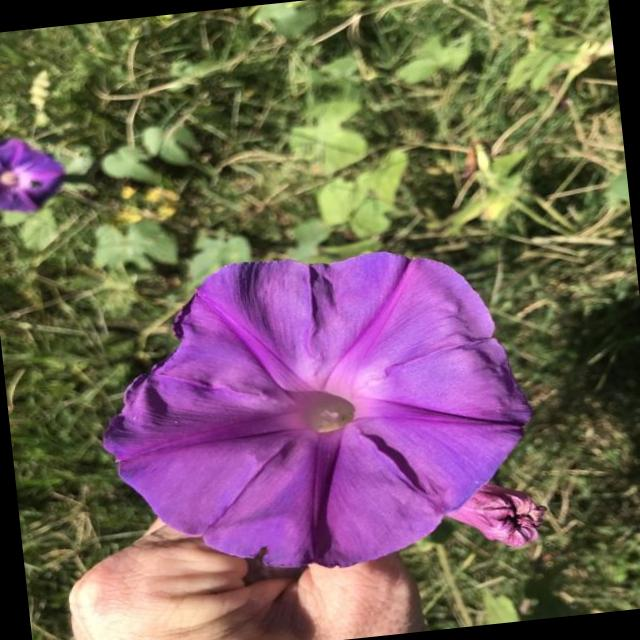ipomoea: (80, 229, 550, 593), (438, 474, 554, 558), (0, 130, 71, 219)
